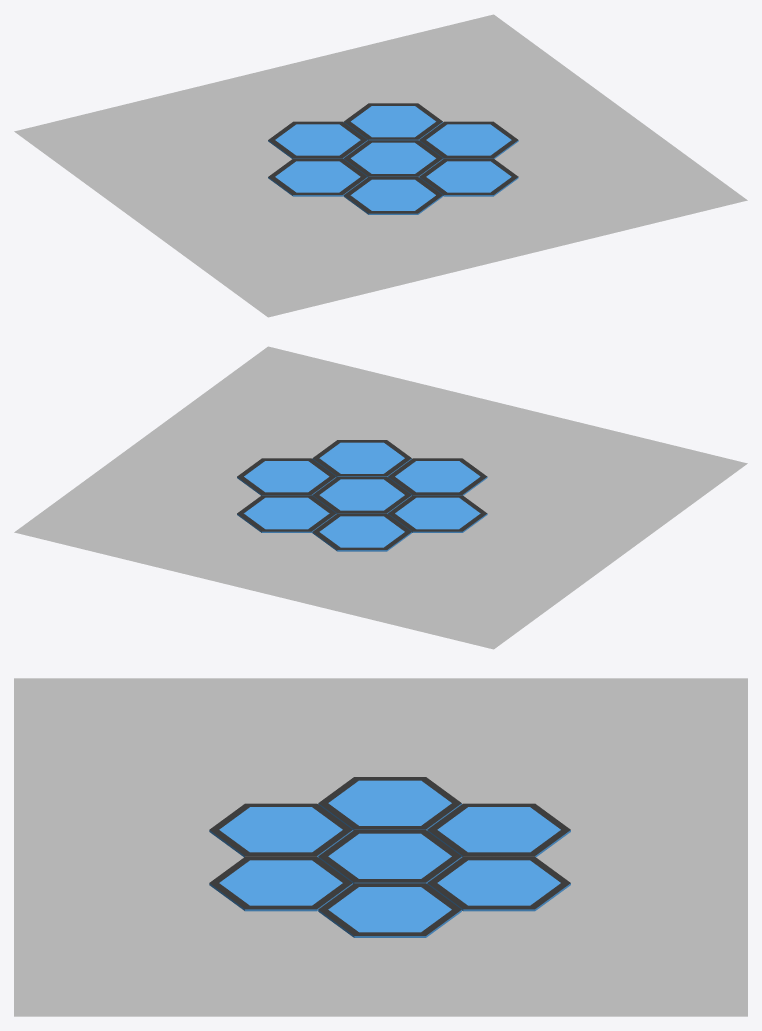
The model's file is SPW0110014.fbx.
3 renders of one model, top to bottom at view 1: azimuth 30°, elevation 25°; view 2: azimuth 150°, elevation 25°; view 3: azimuth 270°, elevation 25°, orthographic. The views are drawn at different scales.
Visible parts, largest first — view 1: smSPW0110014; view 2: smSPW0110014; view 3: smSPW0110014.
Boxes of the visible parts, x1=… form: smSPW0110014: x1=14, y1=14, x2=747, y2=317; smSPW0110014: x1=14, y1=346, x2=747, y2=649; smSPW0110014: x1=14, y1=678, x2=747, y2=1016.
Bounding box in the file's own units: 300 × 3.82 × 276.
2 materials, 1 textured.
